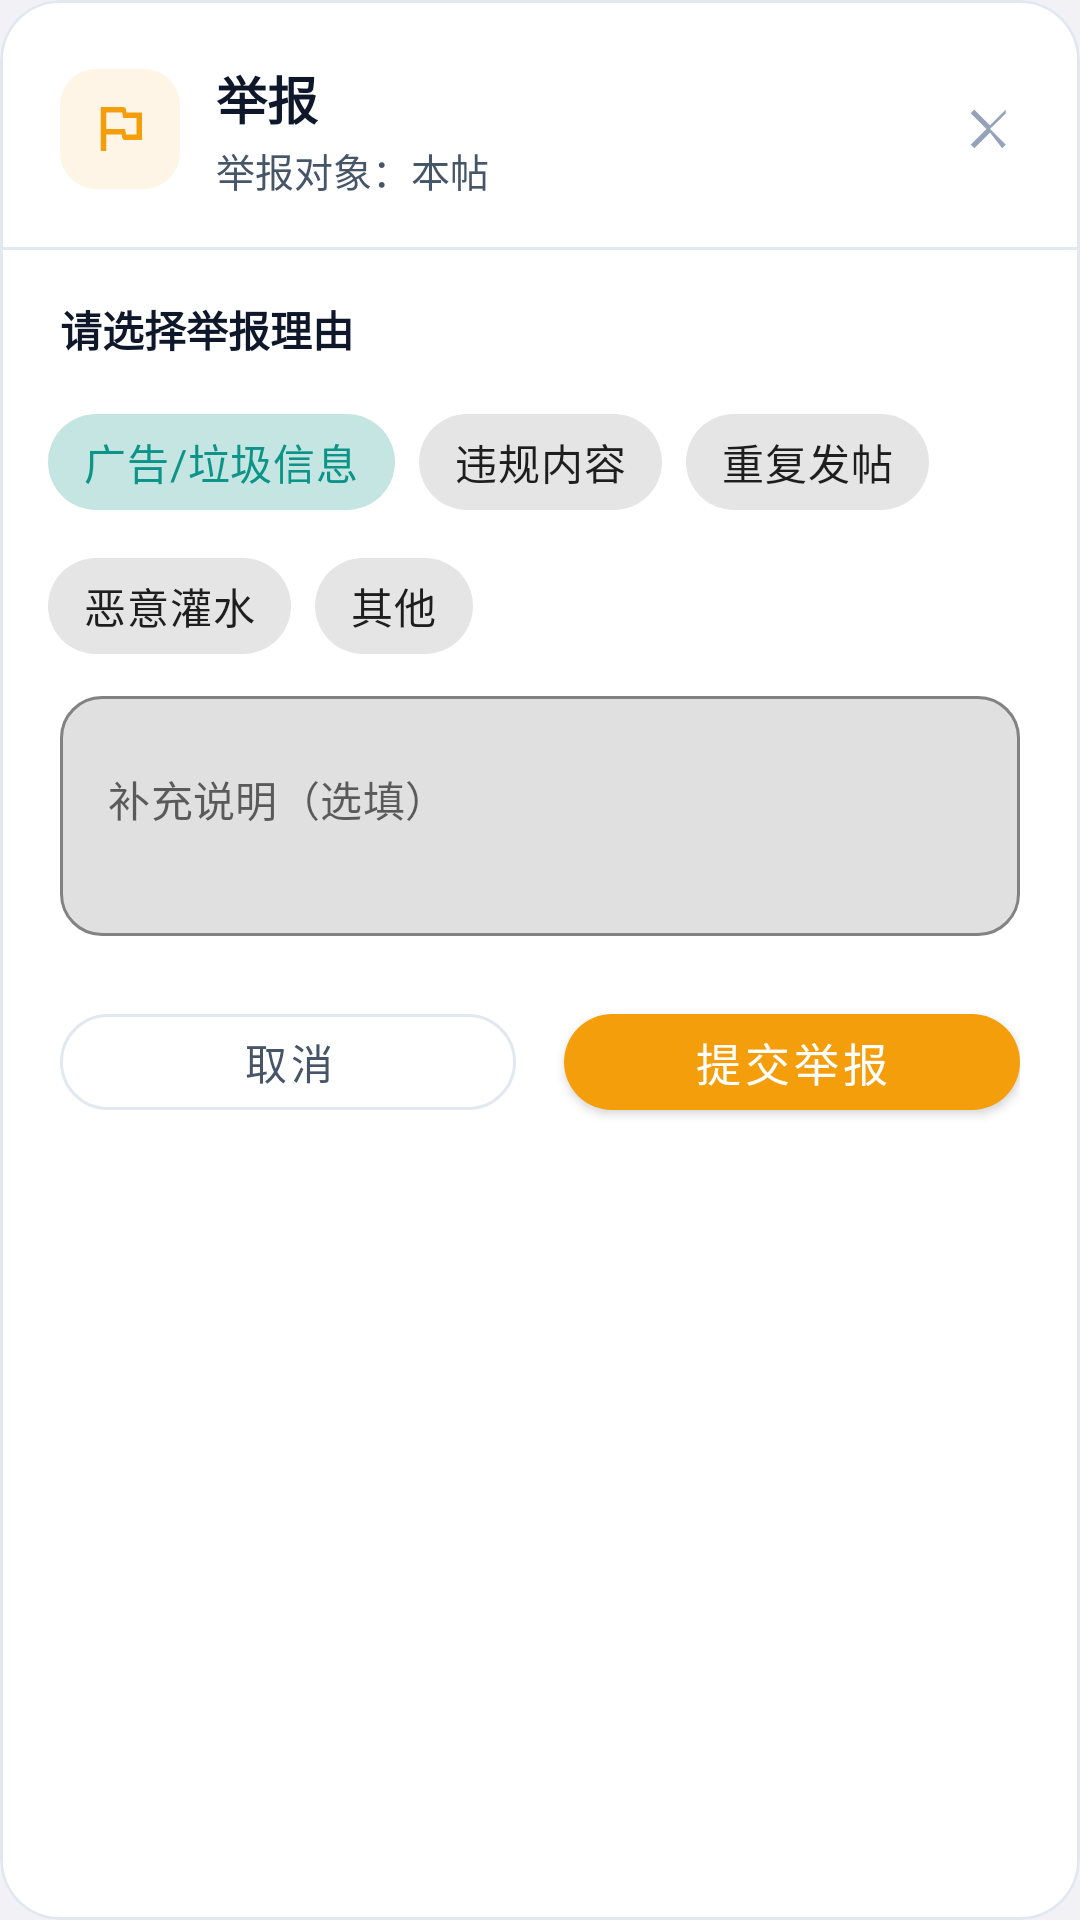

Icon bounding boxes for this 1080w x 1920h phone screenshot, format (x1, y1, x2, y2):
关闭: (971, 110, 1006, 148)
